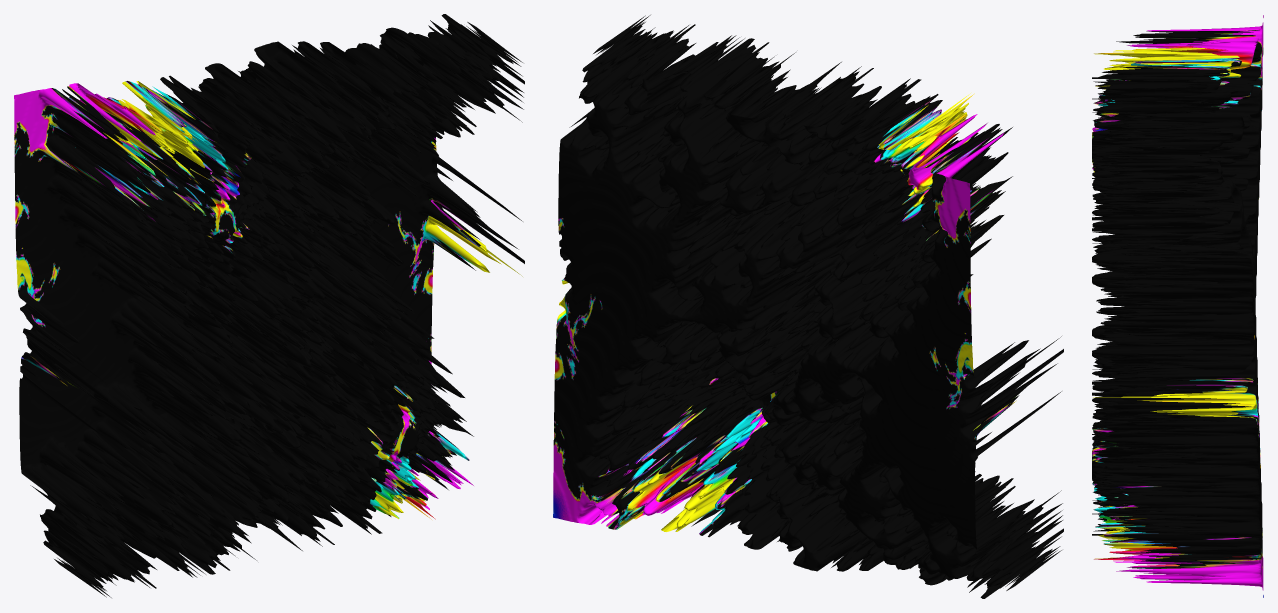
The model's file is uuon-land-terrain.glb.
3 renders of one model, left to right at view 1: azimuth 30°, elevation 25°; view 2: azimuth 150°, elevation 25°; view 3: azimuth 270°, elevation 25°, orthographic. The views are drawn at different scales.
Visible parts, largest first — view 1: node0; view 2: node0; view 3: node0.
Part boxes in pixels (bbox=[...]): node0: bbox=[14, 14, 524, 597]; node0: bbox=[553, 15, 1063, 598]; node0: bbox=[1092, 15, 1263, 597].
Size of the model in its own units: 2 by 2 by 0.7813.
1 material, 1 textured.
